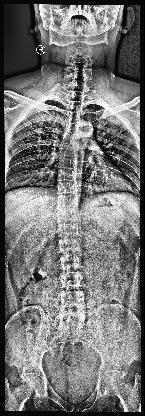Vertebrae: (60, 292, 84, 308), (59, 272, 85, 286), (58, 239, 82, 253), (58, 256, 86, 268), (56, 210, 78, 223), (57, 224, 79, 236), (57, 196, 76, 208), (59, 142, 77, 154), (58, 156, 76, 168), (57, 169, 75, 181), (62, 132, 80, 142), (57, 183, 75, 193), (70, 80, 86, 90), (68, 91, 84, 101), (66, 112, 82, 122), (65, 122, 81, 132), (69, 102, 83, 110)
